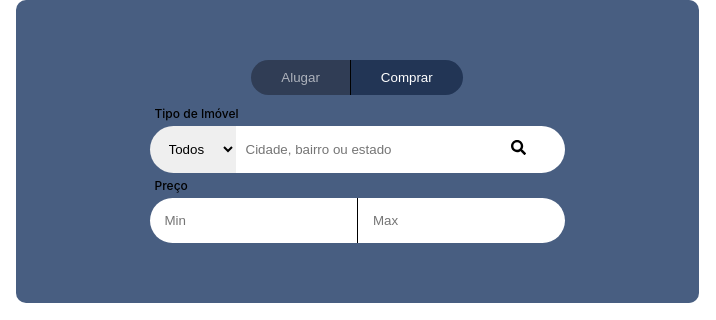
Test: Filtro Component › deve mostrar sugestões de localização ao digitar
The image size is (716, 320).
Focus the field with placeholder "Cidade, bairro ou estado" at (354, 149), box [236,126,472,173]
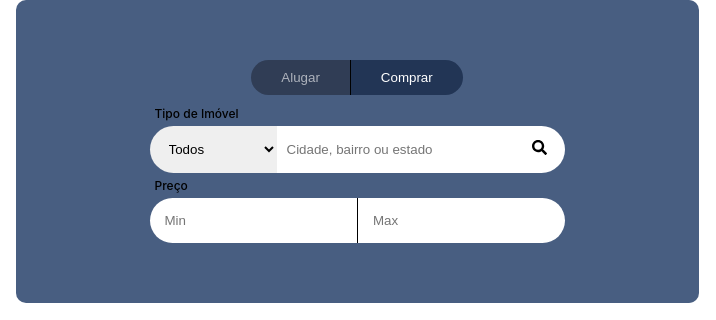
Type "Rio" into the field with placeholder "Cidade, bairro ou estado".
click(395, 149); type("Rio")  # box [276,126,514,173]
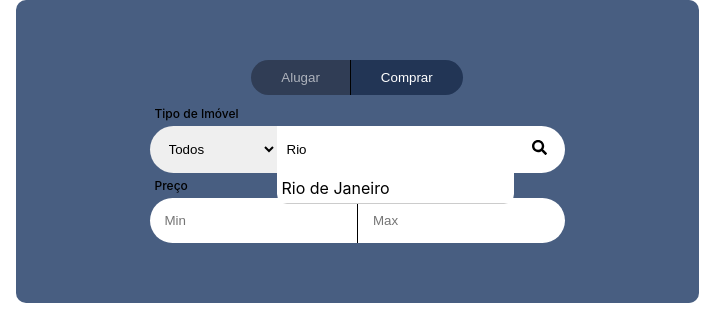
expect the list item "Rio de Janeiro" is shown: met, box [276,173,514,204]
